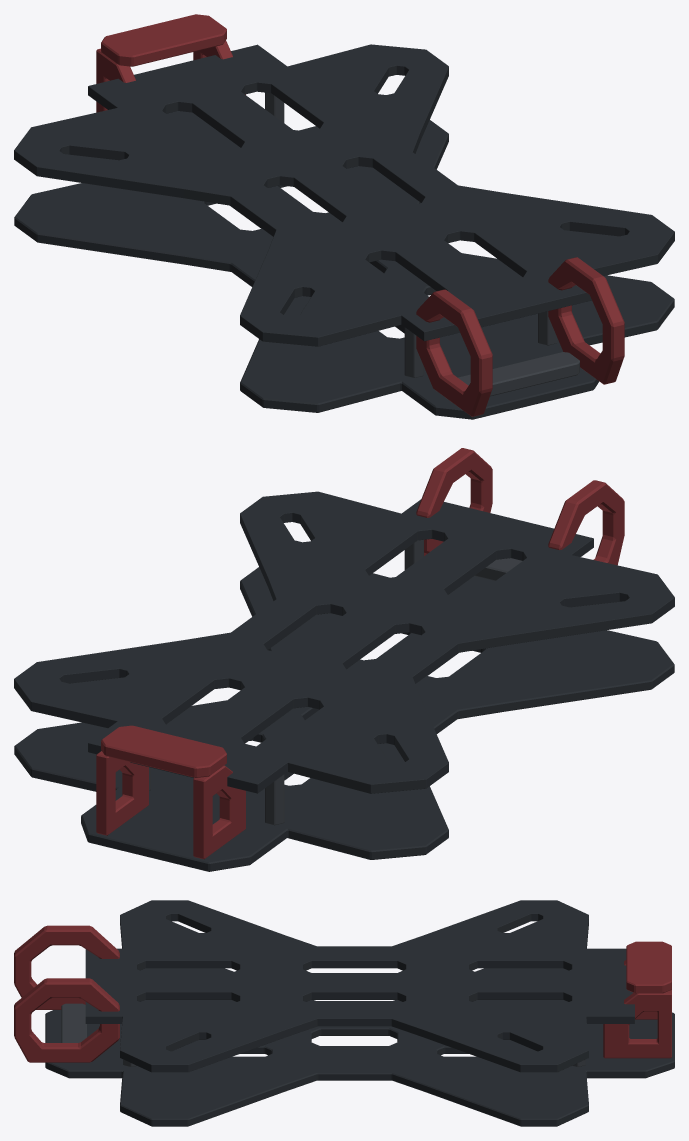
File: aster_450_base.glb
3 views of the same model, one above another, from view 1: azimuth 30°, elevation 25°; view 2: azimuth 150°, elevation 25°; view 3: azimuth 270°, elevation 25° (orthographic). The views are drawn at different scales.
Visible parts, largest first — view 1: SmallQuad_TopPlate, SmallQuad_BottomPlate, SmallQuad_CameraBracket_Left, SmallQuad_CameraBracket_Right, SmallQuad_AntennaBase, SmallQuad_CameraBridge, SmallQuad_AntennaGusset_Left, SmallQuad_ChassisSpacer_01; view 2: SmallQuad_TopPlate, SmallQuad_BottomPlate, SmallQuad_AntennaBase, SmallQuad_AntennaGusset_Left, SmallQuad_CameraBracket_Left, SmallQuad_AntennaGusset_Right, SmallQuad_CameraBracket_Right, SmallQuad_ChassisSpacer_04; view 3: SmallQuad_TopPlate, SmallQuad_BottomPlate, SmallQuad_CameraBracket_Right, SmallQuad_CameraBracket_Left, SmallQuad_AntennaGusset_Right, SmallQuad_AntennaBase, SmallQuad_CameraBridge.
Boxes of the visible parts, <box> form: SmallQuad_TopPlate: <box>14,44,674,346</box>; SmallQuad_BottomPlate: <box>14,111,674,419</box>; SmallQuad_CameraBracket_Left: <box>416,289,492,416</box>; SmallQuad_CameraBracket_Right: <box>548,257,624,384</box>; SmallQuad_AntennaBase: <box>101,14,226,66</box>; SmallQuad_CameraBridge: <box>458,352,579,396</box>; SmallQuad_AntennaGusset_Left: <box>96,48,135,112</box>; SmallQuad_ChassisSpacer_01: <box>404,327,423,377</box>; SmallQuad_TopPlate: <box>14,491,674,793</box>; SmallQuad_BottomPlate: <box>14,567,674,871</box>; SmallQuad_AntennaBase: <box>101,725,226,777</box>; SmallQuad_AntennaGusset_Left: <box>193,765,245,859</box>; SmallQuad_CameraBracket_Left: <box>548,480,624,565</box>; SmallQuad_AntennaGusset_Right: <box>96,751,148,835</box>; SmallQuad_CameraBracket_Right: <box>416,448,492,555</box>; SmallQuad_ChassisSpacer_04: <box>265,774,284,825</box>; SmallQuad_TopPlate: <box>85,900,634,1072</box>; SmallQuad_BottomPlate: <box>45,968,674,1126</box>; SmallQuad_CameraBracket_Right: <box>14,978,119,1062</box>; SmallQuad_CameraBracket_Left: <box>14,925,119,1009</box>; SmallQuad_AntennaGusset_Right: <box>603,990,671,1058</box>; SmallQuad_AntennaBase: <box>626,941,671,993</box>; SmallQuad_CameraBridge: <box>61,1003,86,1042</box>.
Bounding box in the file's own units: 0.136 × 0.035 × 0.231.
